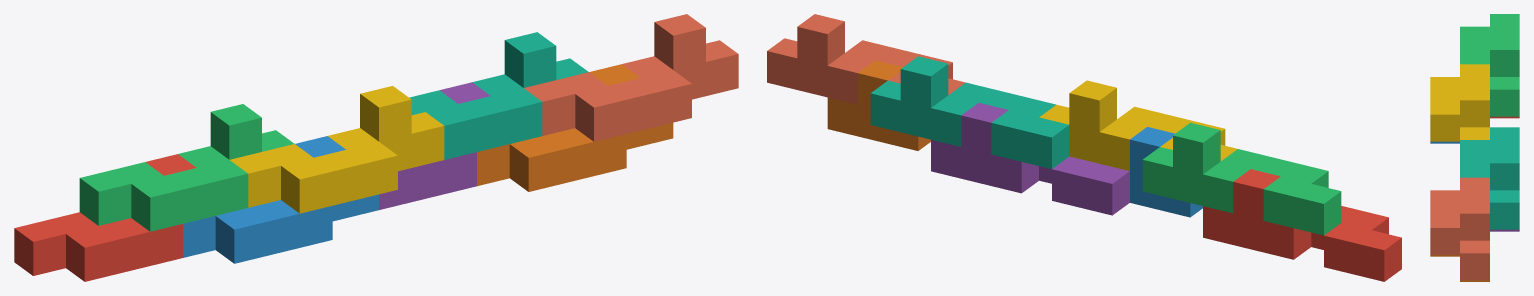
Rendered from tiling.obj.
3 renders of one model, left to right at view 1: azimuth 30°, elevation 25°; view 2: azimuth 150°, elevation 25°; view 3: azimuth 270°, elevation 25°, orthographic. The views are drawn at different scales.
Parts seen in each view (by area): view 1: copy_1_domain_8, copy_1_domain_4, copy_1_domain_3, copy_1_domain_7, copy_1_domain_1, copy_1_domain_6, copy_1_domain_2, copy_1_domain_5; view 2: copy_1_domain_3, copy_1_domain_7, copy_1_domain_1, copy_1_domain_5, copy_1_domain_8, copy_1_domain_4, copy_1_domain_6, copy_1_domain_2; view 3: copy_1_domain_8, copy_1_domain_3, copy_1_domain_4, copy_1_domain_7, copy_1_domain_6, copy_1_domain_1, copy_1_domain_2, copy_1_domain_5.
Part boxes in pixels (<box>): copy_1_domain_8: <box>524,14,738,141</box>; copy_1_domain_4: <box>230,86,444,213</box>; copy_1_domain_3: <box>79,104,294,231</box>; copy_1_domain_7: <box>409,32,588,159</box>; copy_1_domain_1: <box>14,154,196,281</box>; copy_1_domain_6: <box>477,64,673,191</box>; copy_1_domain_2: <box>183,136,378,263</box>; copy_1_domain_5: <box>379,82,490,209</box>; copy_1_domain_3: <box>1142,122,1341,235</box>; copy_1_domain_7: <box>870,56,1069,168</box>; copy_1_domain_1: <box>1203,169,1401,281</box>; copy_1_domain_5: <box>931,102,1129,215</box>; copy_1_domain_8: <box>767,14,965,104</box>; copy_1_domain_4: <box>1039,80,1237,170</box>; copy_1_domain_6: <box>827,60,930,150</box>; copy_1_domain_2: <box>1130,127,1202,217</box>; copy_1_domain_8: <box>1430,177,1489,280</box>; copy_1_domain_3: <box>1460,14,1519,116</box>; copy_1_domain_4: <box>1430,64,1489,141</box>; copy_1_domain_7: <box>1460,127,1519,229</box>; copy_1_domain_6: <box>1430,255,1489,281</box>; copy_1_domain_1: <box>1490,116,1519,118</box>; copy_1_domain_2: <box>1430,141,1459,143</box>; copy_1_domain_5: <box>1490,229,1519,231</box>.
Size of the model in its own units: 21 by 3 by 3.
